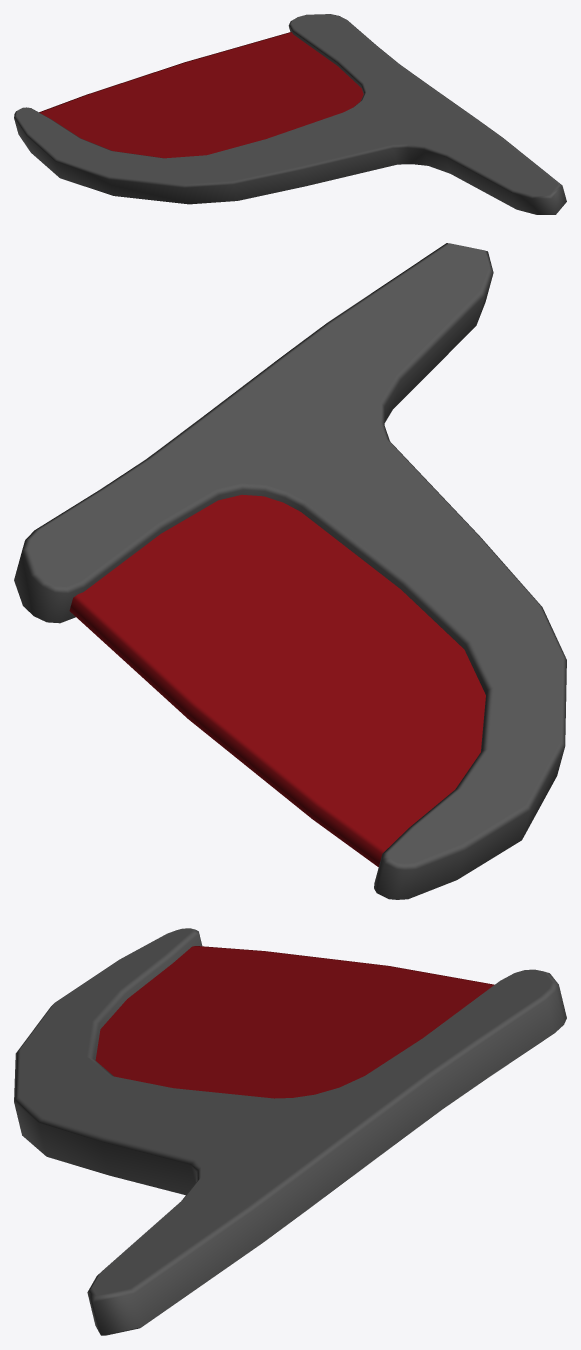
The model's file is Ship_Boss_02_Wing_R.fbx.
3 renders of one model, top to bottom at view 1: azimuth 30°, elevation 25°; view 2: azimuth 150°, elevation 25°; view 3: azimuth 330°, elevation 25°, orthographic. The views are drawn at different scales.
Visible parts, largest first — view 1: Ship_Boss_02_Wing_R; view 2: Ship_Boss_02_Wing_R; view 3: Ship_Boss_02_Wing_R.
Part boxes in pixels (x1,y1,x2,y2): Ship_Boss_02_Wing_R: (14, 14, 566, 214); Ship_Boss_02_Wing_R: (14, 243, 566, 899); Ship_Boss_02_Wing_R: (14, 928, 566, 1335).
Size of the model in its own units: 509 by 167 by 899.
